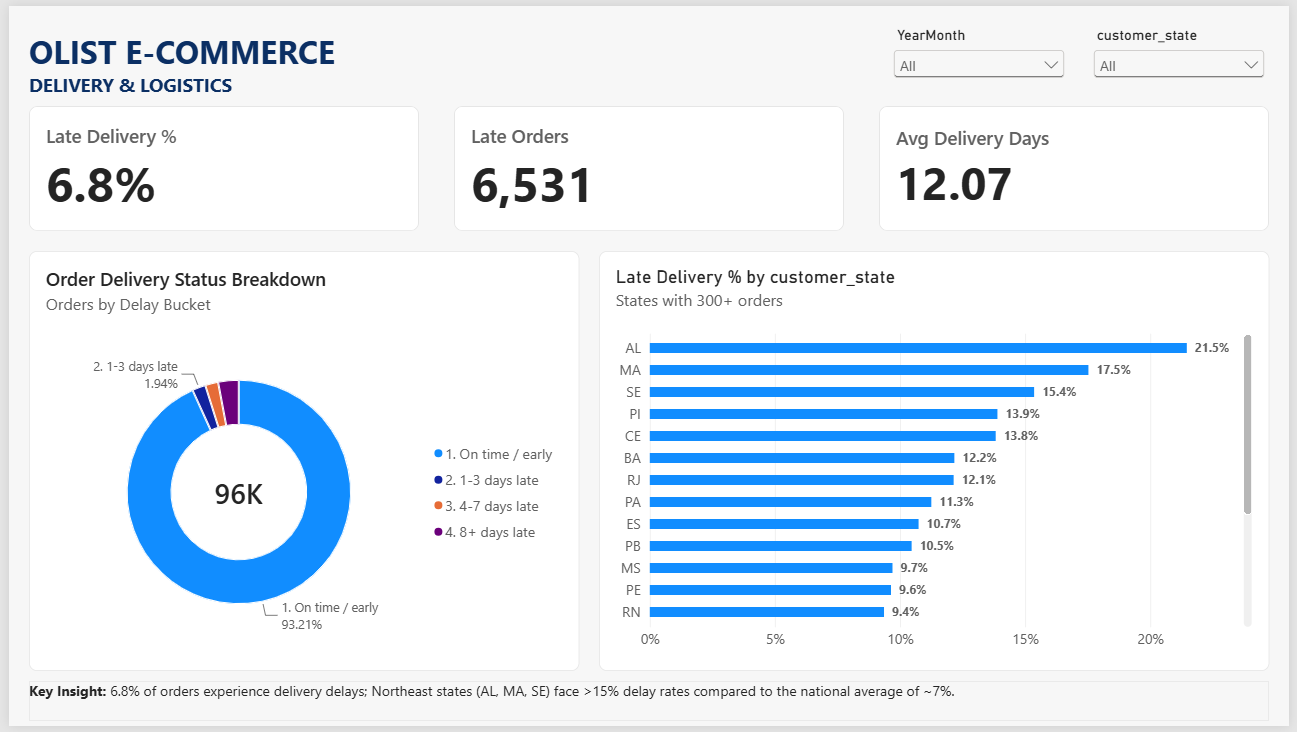

The dashboard page shown, as its layout file describes it:
{"tool":"powerbi","page":{"name":"Delivery & Logistics","canvas":[1280,720],"ordinal":1},"visuals":[{"type":"textbox","box":[20.6,5,381.5,104.3],"z":0},{"type":"slicer","fields":{"Values":["DateTable.YearMonth"]},"box":[880,20,180,60],"z":1000},{"type":"cardVisual","fields":{"Data":["clean_orders.Late Delivery %"]},"box":[20,100,390,125],"z":2000},{"type":"cardVisual","fields":{"Data":["clean_orders.Late Orders Display"]},"box":[445,100,390,125],"z":3000},{"type":"cardVisual","fields":{"Data":["clean_orders.Avg Delivery Days"]},"box":[870,100,390,125],"z":4000},{"type":"donutChart","title":"Order Delivery Status Breakdown","fields":{"Category":["clean_orders.Delay Bucket"],"Y":["clean_orders.Orders"]},"box":[20,245,550,420],"z":5000},{"type":"clusteredBarChart","fields":{"Category":["Customers.customer_state"],"Y":["clean_orders.Late Delivery %"]},"box":[590,245,670,420],"z":6000},{"type":"slicer","fields":{"Values":["Customers.customer_state"]},"box":[1080,20,180,60],"z":7000},{"type":"textbox","box":[20,675,1240,40],"z":7001}]}

Visuals, with their boxes in screenshot pixels (x1, y1, x2, y2), scaled from the page's 1280x720 canvas onto the 1297x732 screenshot:
textbox: [21, 5, 407, 111]
slicer - DateTable.YearMonth: [892, 20, 1074, 81]
cardVisual - clean_orders.Late Delivery %: [20, 102, 415, 229]
cardVisual - clean_orders.Late Orders Display: [451, 102, 846, 229]
cardVisual - clean_orders.Avg Delivery Days: [882, 102, 1277, 229]
"Order Delivery Status Breakdown" donutChart: [20, 249, 578, 676]
clusteredBarChart - Customers.customer_state x clean_orders.Late Delivery %: [598, 249, 1277, 676]
slicer - Customers.customer_state: [1094, 20, 1277, 81]
textbox: [20, 686, 1277, 727]
